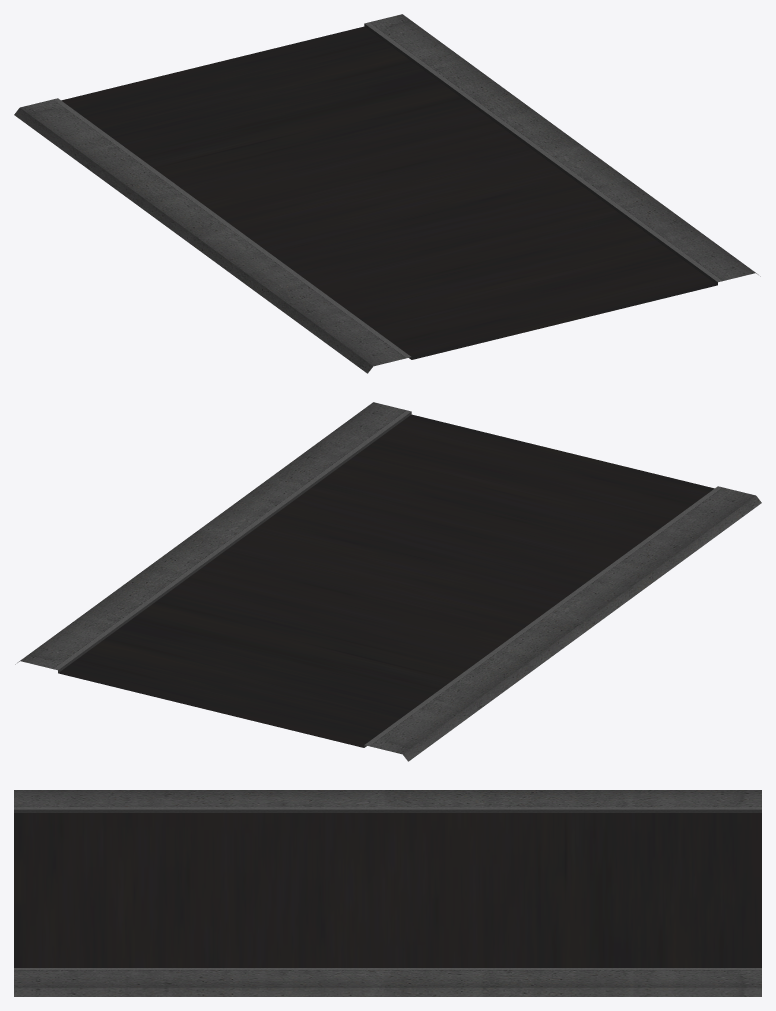
The model's file is RJs_Road 4+4 Slope Node.fbx.
3 views of the same model, one above another, from view 1: azimuth 30°, elevation 25°; view 2: azimuth 150°, elevation 25°; view 3: azimuth 270°, elevation 25° (orthographic). The views are drawn at different scales.
Parts seen in each view (by area): view 1: plane; view 2: plane; view 3: plane.
Part boxes in pixels (x1,y1,x2,y2): plane: (14, 14, 760, 373); plane: (15, 402, 761, 761); plane: (14, 790, 761, 996).
Bounding box in the file's own units: 4120 × 60.1 × 6400.
